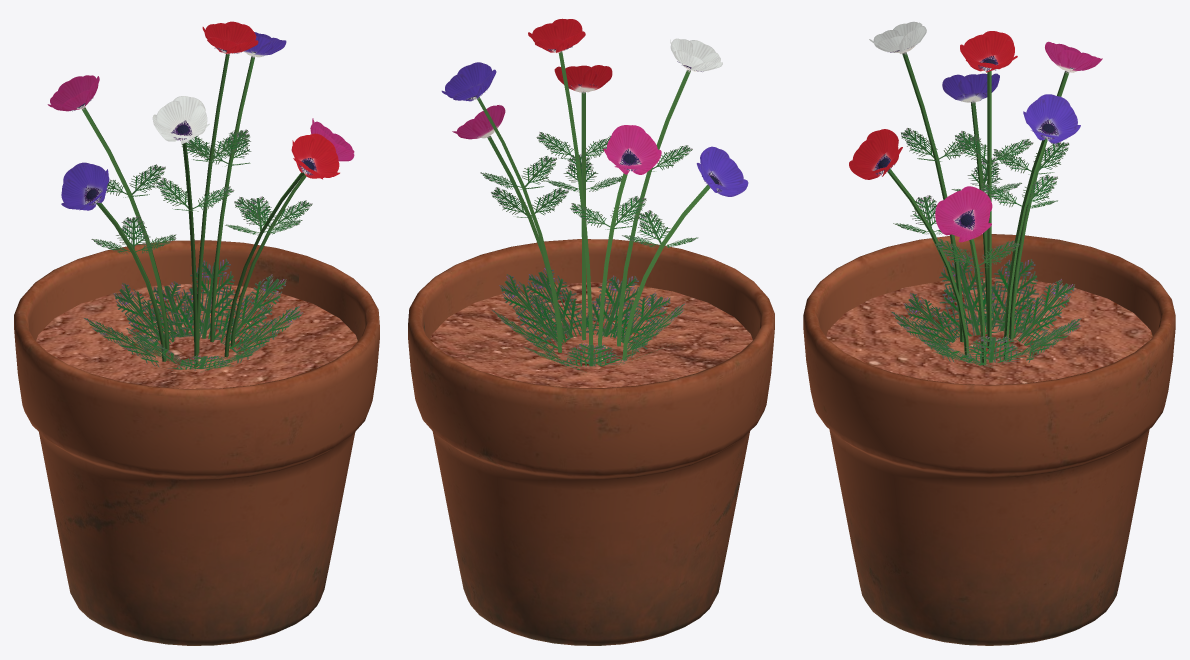
File: maceta_anemonas.obj
3 renders of one model, left to right at view 1: azimuth 30°, elevation 25°; view 2: azimuth 150°, elevation 25°; view 3: azimuth 270°, elevation 25°, orthographic.
Visible parts, largest first — view 1: maceta_anemonas; view 2: maceta_anemonas; view 3: maceta_anemonas.
Part boxes in pixels (x1=…): maceta_anemonas: x1=14, y1=21, x2=379, y2=645; maceta_anemonas: x1=408, y1=18, x2=774, y2=645; maceta_anemonas: x1=803, y1=21, x2=1175, y2=645.
Size of the model in its own units: 0.3521 by 0.6019 by 0.3521.
